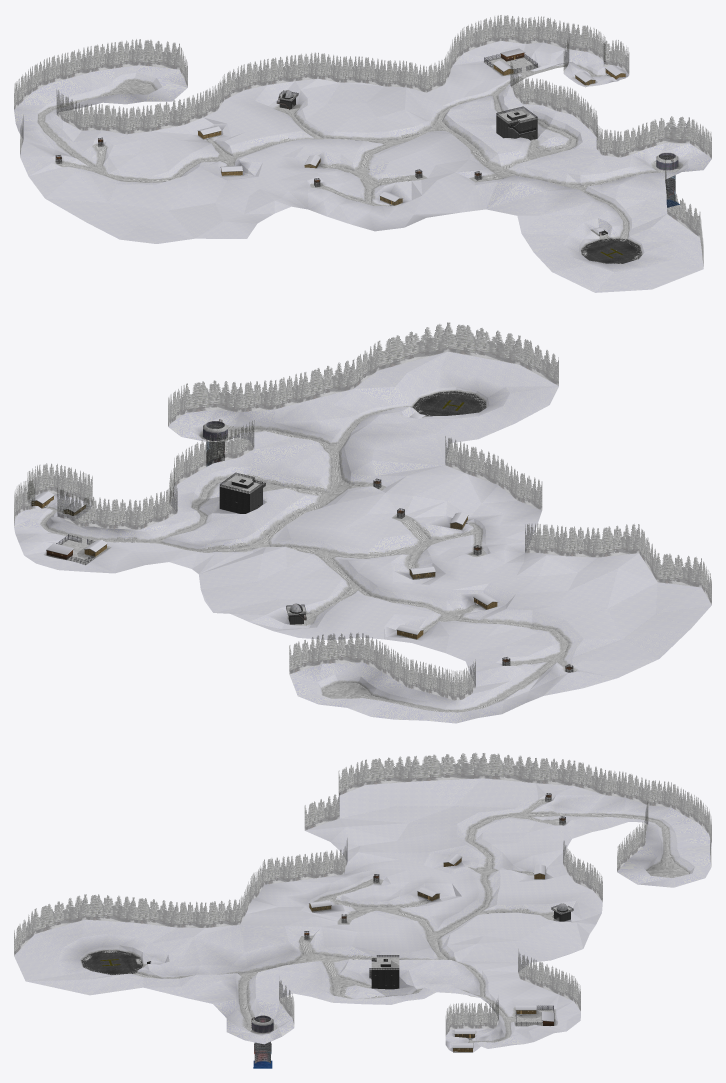
3 renders of one model, top to bottom at view 1: azimuth 30°, elevation 25°; view 2: azimuth 150°, elevation 25°; view 3: azimuth 270°, elevation 25°, orthographic. The views are drawn at different scales.
Parts seen in each view (by area): view 1: Surface_0, Surface_1, Surface_Alpha_4, Surface_Alpha_3, Surface_Alpha_5, Surface_Alpha_6, Surface_2, Surface_8, Surface_36, Surface_24, Surface_Alpha_9; view 2: Surface_0, Surface_1, Surface_Alpha_4, Surface_Alpha_3, Surface_Alpha_5, Surface_2, Surface_Alpha_6, Surface_8, Surface_36, Surface_24; view 3: Surface_0, Surface_1, Surface_Alpha_4, Surface_Alpha_3, Surface_Alpha_5, Surface_2, Surface_Alpha_6, Surface_8, Surface_36, Surface_24.
Boxes of the visible parts, x1=… form: Surface_0: x1=14, y1=41, x2=711, y2=292; Surface_1: x1=35, y1=54, x2=688, y2=258; Surface_Alpha_4: x1=14, y1=27, x2=711, y2=259; Surface_Alpha_3: x1=14, y1=34, x2=711, y2=265; Surface_Alpha_5: x1=14, y1=21, x2=711, y2=252; Surface_Alpha_6: x1=14, y1=15, x2=711, y2=233; Surface_2: x1=38, y1=57, x2=660, y2=239; Surface_8: x1=56, y1=58, x2=681, y2=235; Surface_36: x1=581, y1=238, x2=641, y2=263; Surface_24: x1=279, y1=93, x2=607, y2=236; Surface_Alpha_9: x1=55, y1=90, x2=537, y2=182; Surface_0: x1=14, y1=351, x2=711, y2=723; Surface_1: x1=37, y1=387, x2=583, y2=710; Surface_Alpha_4: x1=14, y1=336, x2=711, y2=692; Surface_Alpha_3: x1=14, y1=344, x2=711, y2=700; Surface_Alpha_5: x1=14, y1=329, x2=711, y2=685; Surface_2: x1=32, y1=407, x2=568, y2=712; Surface_Alpha_6: x1=14, y1=322, x2=711, y2=677; Surface_8: x1=53, y1=415, x2=577, y2=698; Surface_36: x1=412, y1=391, x2=486, y2=416; Surface_24: x1=219, y1=480, x2=305, y2=624; Surface_0: x1=14, y1=778, x2=711, y2=1052; Surface_1: x1=79, y1=794, x2=694, y2=1044; Surface_Alpha_4: x1=14, y1=765, x2=711, y2=1031; Surface_Alpha_3: x1=14, y1=772, x2=711, y2=1037; Surface_Alpha_5: x1=14, y1=759, x2=711, y2=1024; Surface_2: x1=133, y1=802, x2=674, y2=1052; Surface_Alpha_6: x1=14, y1=752, x2=711, y2=1017; Surface_8: x1=147, y1=799, x2=688, y2=1042; Surface_36: x1=81, y1=950, x2=142, y2=974; Surface_24: x1=147, y1=908, x2=570, y2=989.
Size of the model in its own units: 1789 by 239 by 1952.
Materials: 76 (75 with a texture image).
